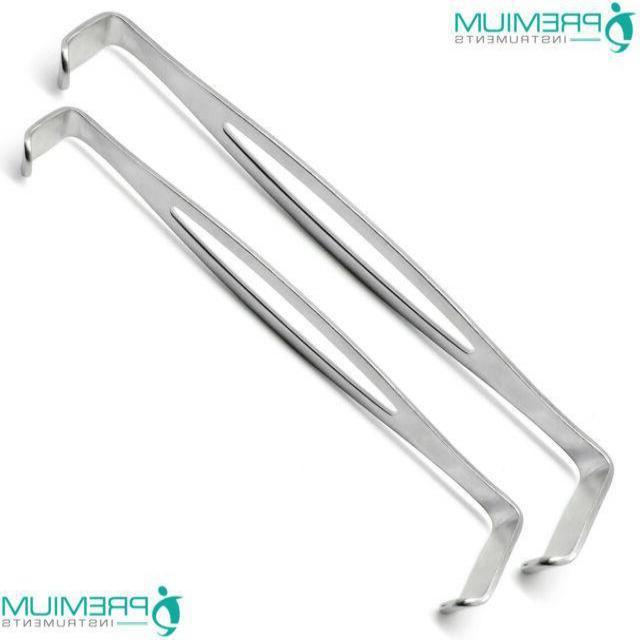Army_navy: (54, 9, 620, 582), (19, 101, 529, 613)
